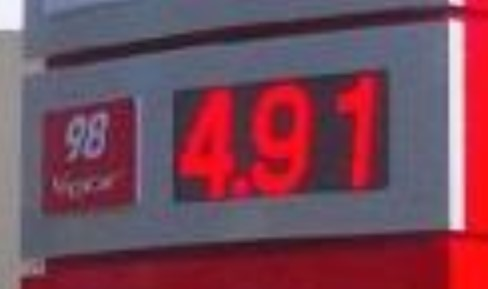digits: (245, 77, 317, 193), (173, 78, 240, 201), (328, 69, 395, 191)
